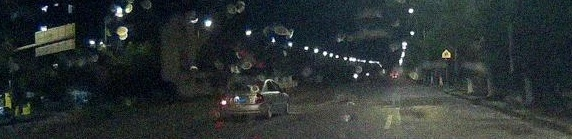L_light: (220, 95, 228, 105)
R_light: (255, 93, 263, 104)
T_light: (245, 81, 253, 84)
night-left: (219, 79, 265, 119)
